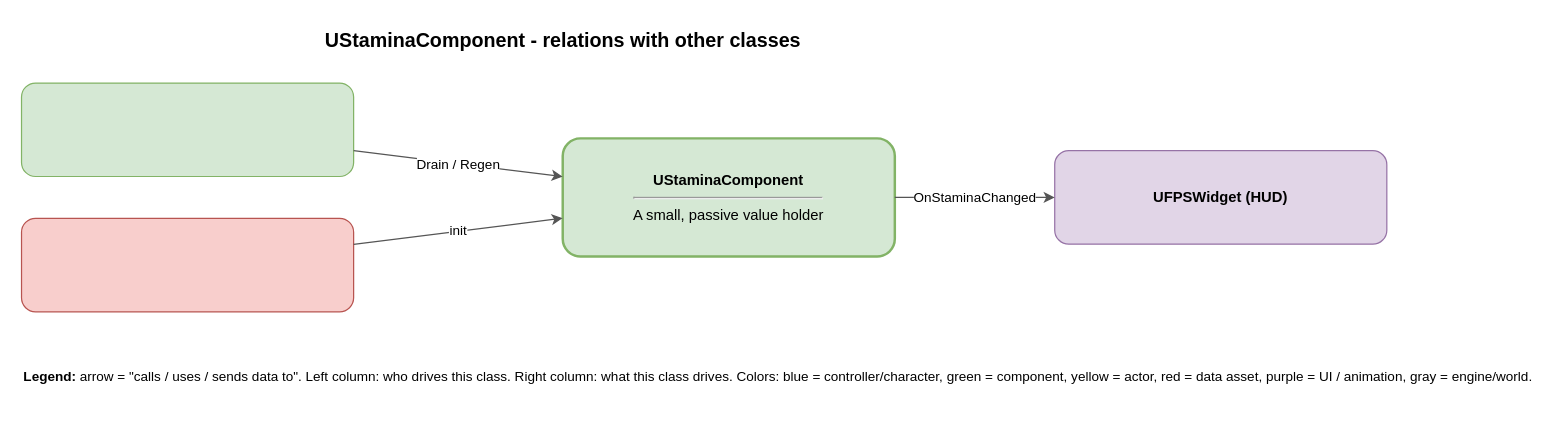
Image size: 1555x431. Some labels were removed from this diagram. Here are the shapes that lost their labels. From the top down, the centre of each, then its label:
the point at 187,129: USprintComponent
the point at 187,264: UCharacterStatsDataAsset
